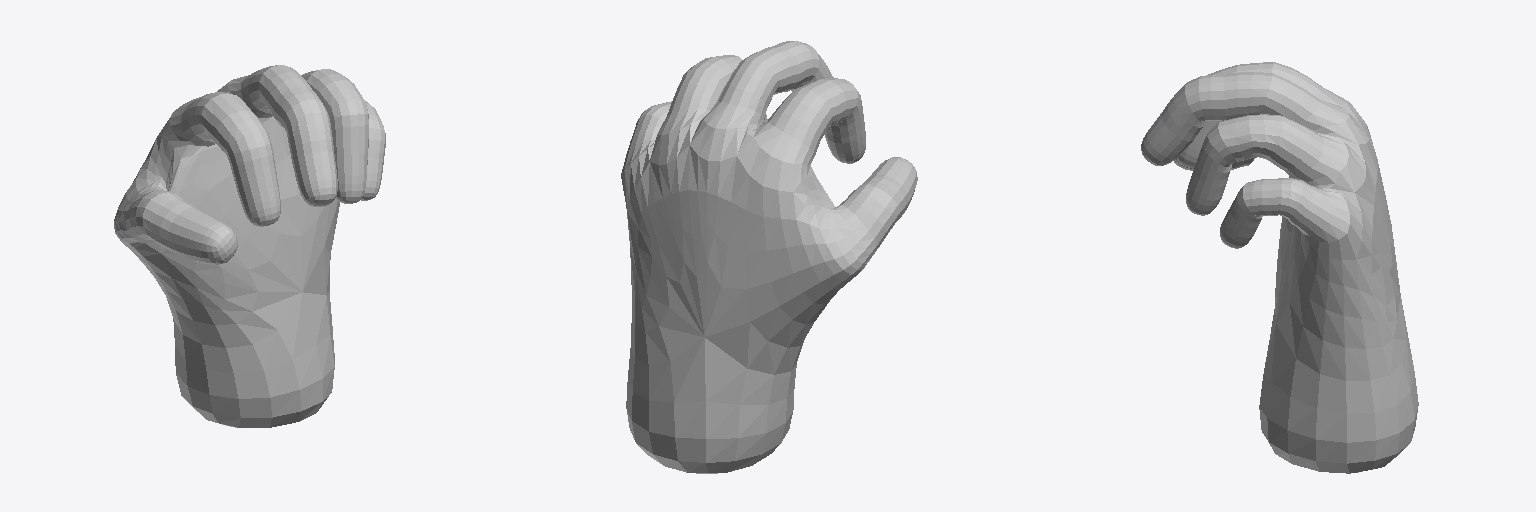
The model's file is handanimatsion48.obj.
The picture shows the model from 3 angles: view 1: azimuth 30°, elevation 25°; view 2: azimuth 150°, elevation 25°; view 3: azimuth 270°, elevation 25°; orthographic projection.
Visible parts, largest first — view 1: Cube; view 2: Cube; view 3: Cube.
Boxes of the visible parts, x1=… form: Cube: x1=114, y1=65, x2=385, y2=427; Cube: x1=621, y1=41, x2=917, y2=473; Cube: x1=1141, y1=62, x2=1418, y2=473.
Bounding box in the file's own units: 3.14 × 4.63 × 3.07.